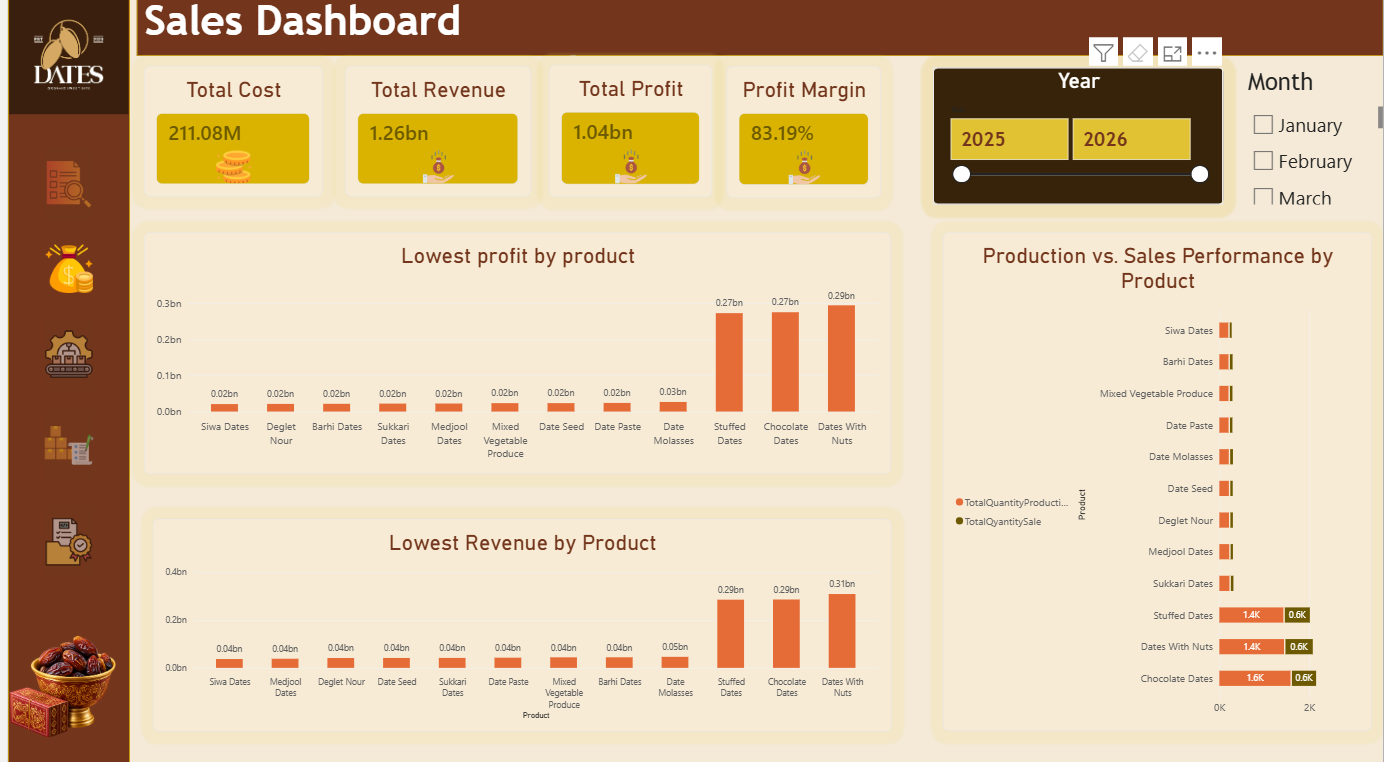

What the dashboard file says about the page in this screenshot:
{"tool":"powerbi","page":{"name":" Sales","canvas":[1920,1080],"ordinal":1},"visuals":[{"type":"shape","box":[180,0,1741,85],"z":0},{"type":"shape","box":[0,0,170,1081],"z":1000},{"type":"image","box":[0,0,169.9,166.4],"z":2000},{"type":"textbox","title":"Sales Dashboard","box":[190.1,0,602.5,85],"z":3000},{"type":"cardVisual","title":"Total Cost","fields":{"Data":["MyMeasures.Total COGS"]},"box":[190,100,248.6,181.4],"z":4000},{"type":"cardVisual","title":"Total Revenue","fields":{"Data":["MyMeasures.Total Revenue"]},"box":[471.7,100,258.3,181.7],"z":5000},{"type":"columnChart","title":"Lowest profit by product","fields":{"Category":["productDim.Product"],"Y":["MyMeasures.Profit"]},"box":[190,331.7,1041.7,336.7],"z":6000},{"type":"cardVisual","title":"Total Profit","fields":{"Data":["MyMeasures.Profit"]},"box":[755,98.3,227.3,183.6],"z":7000},{"type":"image","box":[0,844,150,235.7],"z":8000},{"type":"columnChart","title":"Lowest Revenue by Product","fields":{"Category":["productDim.Product"],"Y":["MyMeasures.Total Revenue"]},"box":[201.7,730,1030,296.7],"z":9000},{"type":"cardVisual","title":"Profit Margin","fields":{"Data":["MyMeasures.Profit Margin %"]},"box":[1003.3,100,215,183.3],"z":10000},{"type":"barChart","title":"Production vs. Sales Performance by Product","fields":{"Category":["productDim.Product"],"Y":["MyMeasures.TotalQuantityProduction","MyMeasures.TotalQyantitySale"]},"box":[1305,331.7,598.3,695],"z":11000},{"type":"actionButton","box":[50.6,212.8,69,102],"z":12000},{"type":"actionButton","box":[50.6,331.4,69,102],"z":13000},{"type":"actionButton","box":[50.6,450,69,102],"z":14000},{"type":"actionButton","box":[50.6,711.6,69,102],"z":15000},{"type":"actionButton","box":[50.6,577.3,69,102],"z":16000},{"type":"slicer","title":"Year","fields":{"Values":["DateDim.Date.Variation.Date Hierarchy.Year"]},"box":[1290.6,100.9,405.5,191.4],"z":17000},{"type":"slicer","title":"Month","fields":{"Values":["DateDim.Date.Variation.Date Hierarchy.Month"]},"box":[1730.6,100.9,189.4,191.4],"z":18000}]}

Visuals, with their boxes on the page's 1920x1080 design canvas (x1, y1, x2, y2). These are canvas units, not pixel positions in the 1387x762 screenshot, which may show the page scaled, cropped or inside an application window:
shape: left=180, top=0, right=1921, bottom=85
shape: left=0, top=0, right=170, bottom=1081
image: left=0, top=0, right=170, bottom=166
"Sales Dashboard" textbox: left=190, top=0, right=793, bottom=85
"Total Cost" cardVisual: left=190, top=100, right=439, bottom=281
"Total Revenue" cardVisual: left=472, top=100, right=730, bottom=282
"Lowest profit by product" columnChart: left=190, top=332, right=1232, bottom=668
"Total Profit" cardVisual: left=755, top=98, right=982, bottom=282
image: left=0, top=844, right=150, bottom=1080
"Lowest Revenue by Product" columnChart: left=202, top=730, right=1232, bottom=1027
"Profit Margin" cardVisual: left=1003, top=100, right=1218, bottom=283
"Production vs. Sales Performance by Product" barChart: left=1305, top=332, right=1903, bottom=1027
actionButton: left=51, top=213, right=120, bottom=315
actionButton: left=51, top=331, right=120, bottom=433
actionButton: left=51, top=450, right=120, bottom=552
actionButton: left=51, top=712, right=120, bottom=814
actionButton: left=51, top=577, right=120, bottom=679
"Year" slicer: left=1291, top=101, right=1696, bottom=292
"Month" slicer: left=1731, top=101, right=1920, bottom=292
